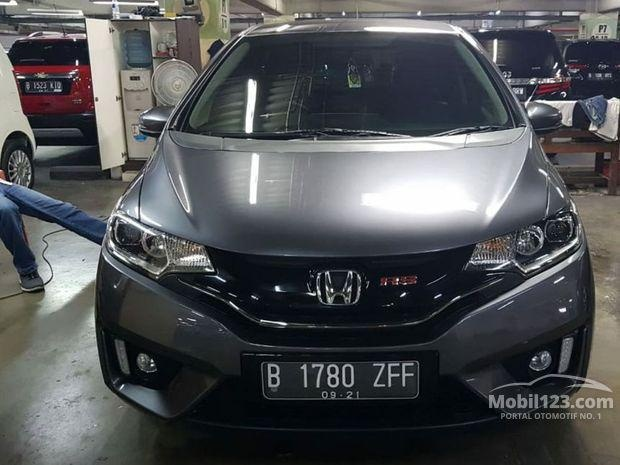plate: (259, 356, 428, 401)
